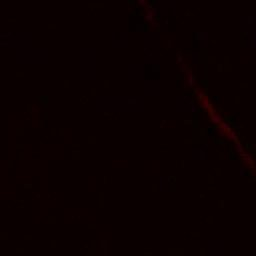debris: (191, 88, 214, 110), (236, 147, 256, 170), (222, 128, 241, 151), (179, 63, 194, 89), (208, 110, 227, 130), (143, 6, 161, 23)
